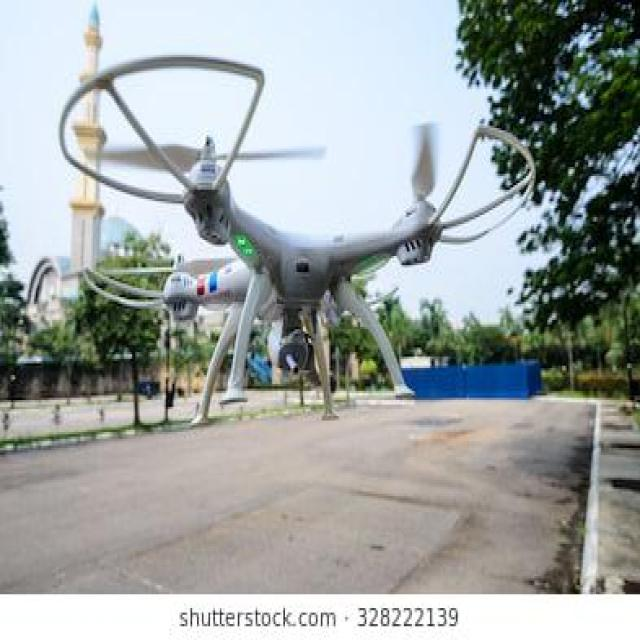drone: (42, 39, 550, 442)
